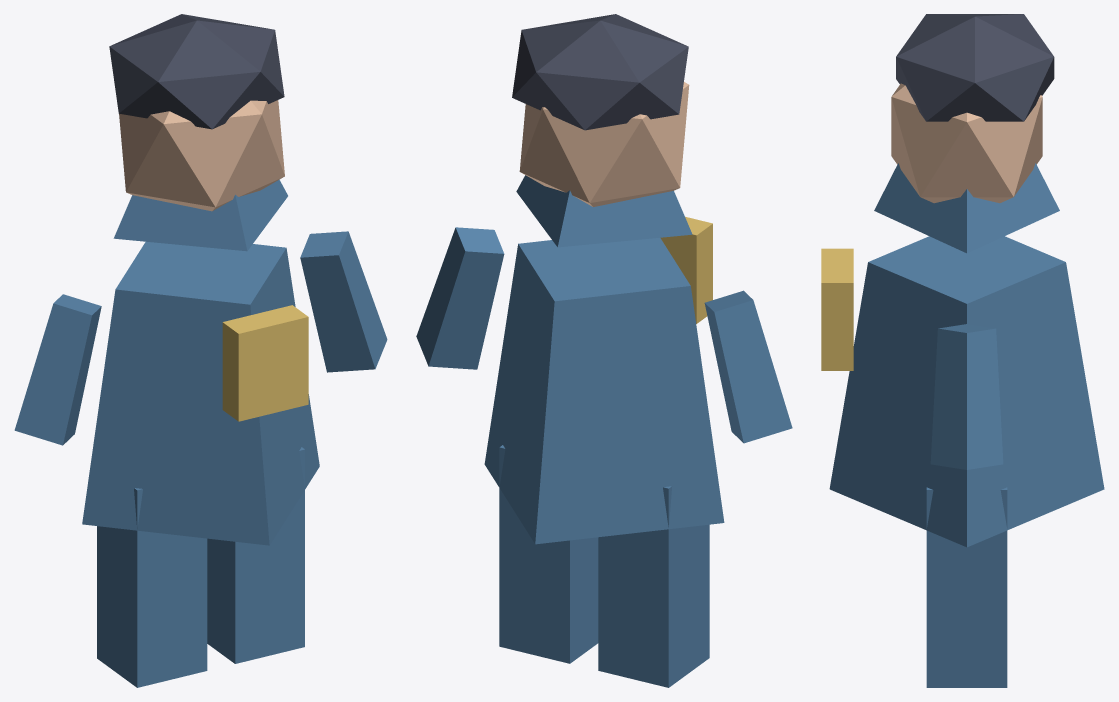
The model's file is gareth-v01.glb.
3 renders of one model, left to right at view 1: azimuth 30°, elevation 25°; view 2: azimuth 150°, elevation 25°; view 3: azimuth 270°, elevation 25°, orthographic.
Parts seen in each view (by area): view 1: torso, leg, hair, head, leg.001, charm, arm.001, arm, collar; view 2: torso, leg, hair, leg.001, head, arm.001, arm, collar, charm; view 3: torso, hair, leg.001, head, arm.001, collar, charm.
Boxes of the visible parts, x1,y1,x2,y2 form: torso: (82,241,319,545); leg: (97,488,207,687); hair: (109,14,284,129); head: (119,100,284,211); leg.001: (207,447,304,663); charm: (222,305,308,421); arm.001: (300,231,387,372); arm: (14,294,101,445); collar: (113,179,287,251); torso: (484,238,724,544); leg: (598,486,709,687); hair: (512,14,688,130); leg.001: (499,445,598,663); head: (519,82,689,206); arm.001: (416,227,504,369); arm: (704,290,792,443); collar: (516,175,692,247); charm: (660,216,712,323); torso: (829,236,1104,547); hair: (896,14,1054,121); leg.001: (926,487,1007,687); head: (891,83,1042,203); arm.001: (930,324,1003,469); collar: (874,163,1059,253); charm: (821,248,853,370).
Bounding box in the file's own units: 1.07 × 1.72 × 0.7.
